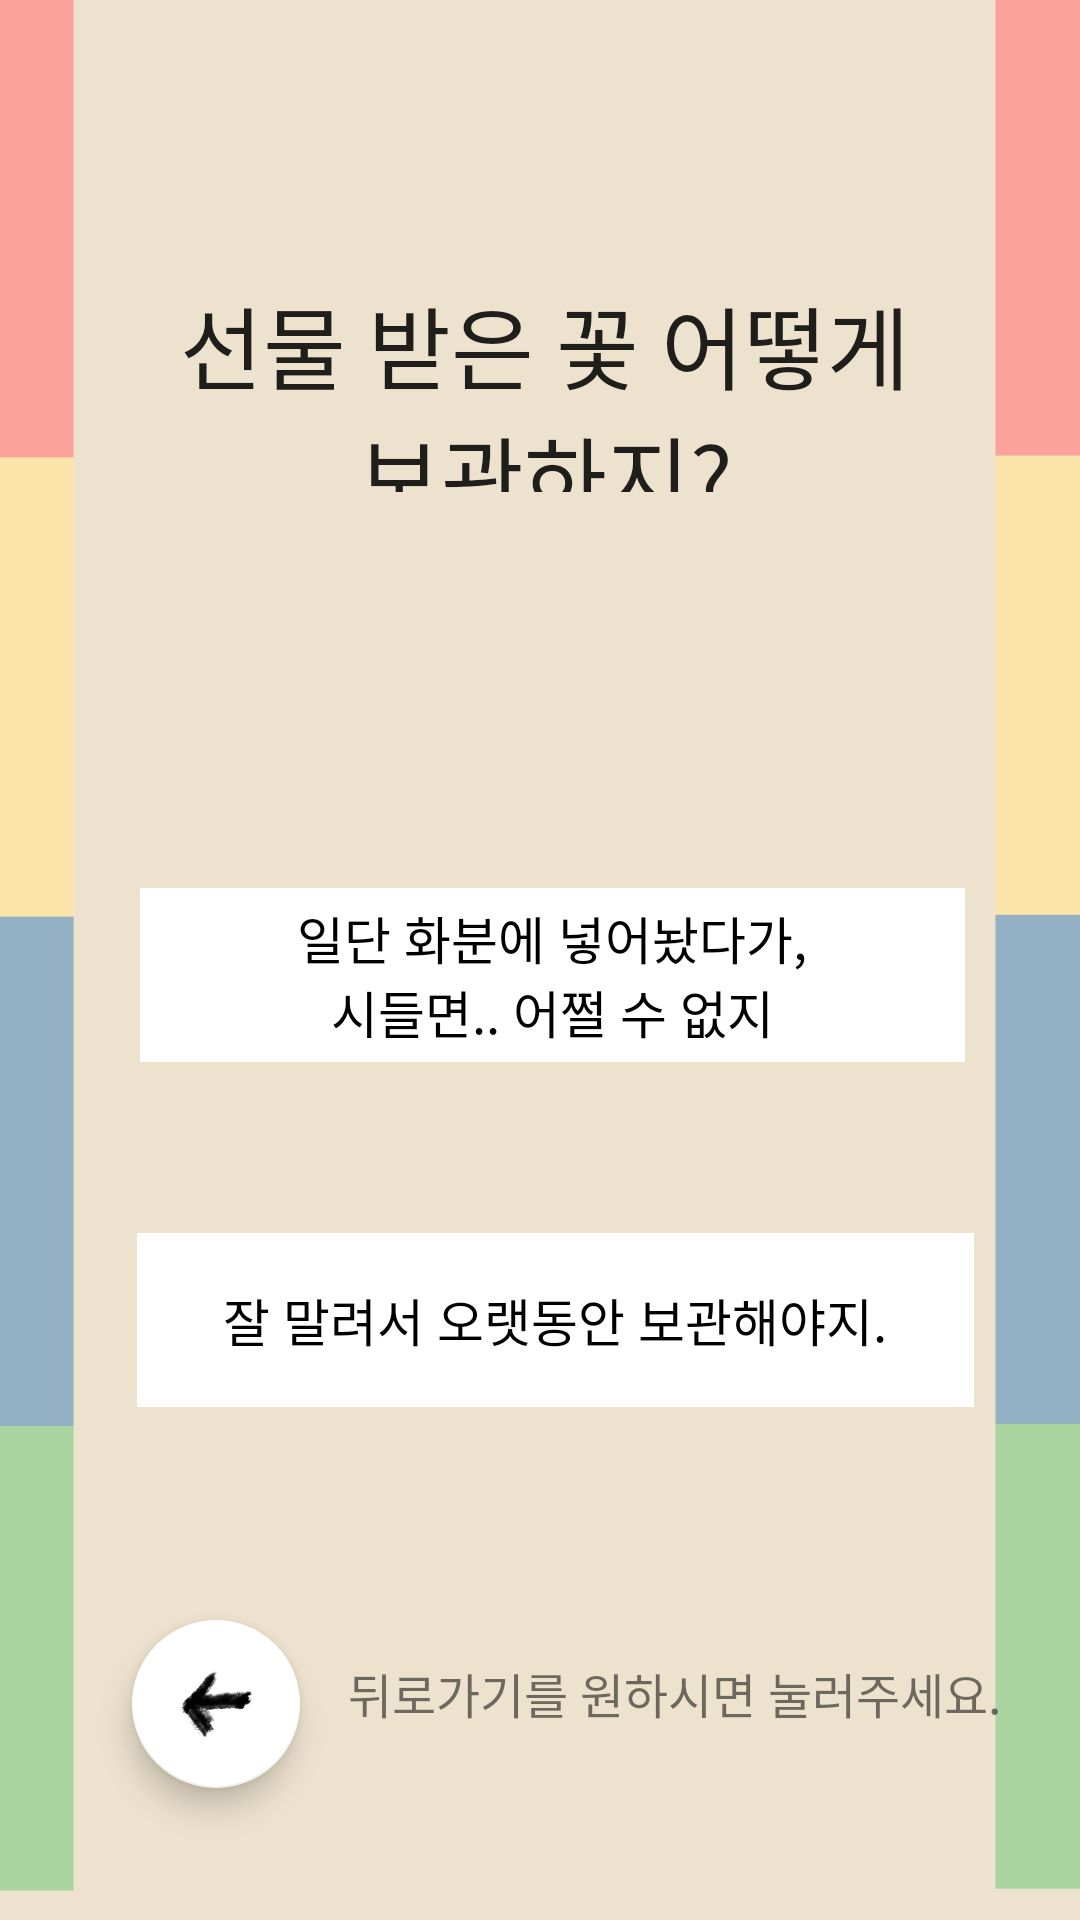

Icons on this 1080px x 1920px Android screen, each with the point to tap as point (x, y):
back: point (216, 1704)
